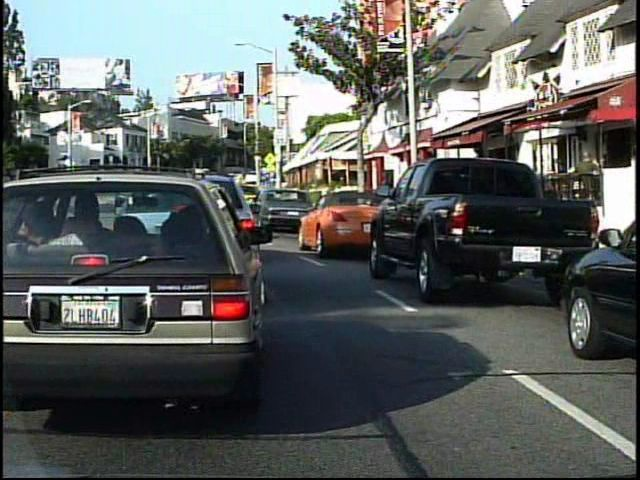person: (569, 147, 603, 224)
